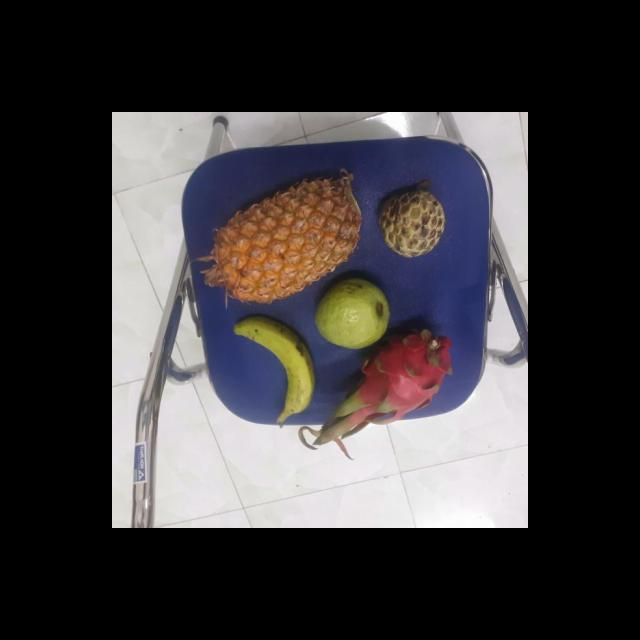Sakya fruit: (375, 186, 445, 256)
banana: (229, 314, 317, 421)
guava: (310, 275, 391, 351)
pineapple: (205, 172, 362, 304)
pitaya: (345, 328, 444, 422)
